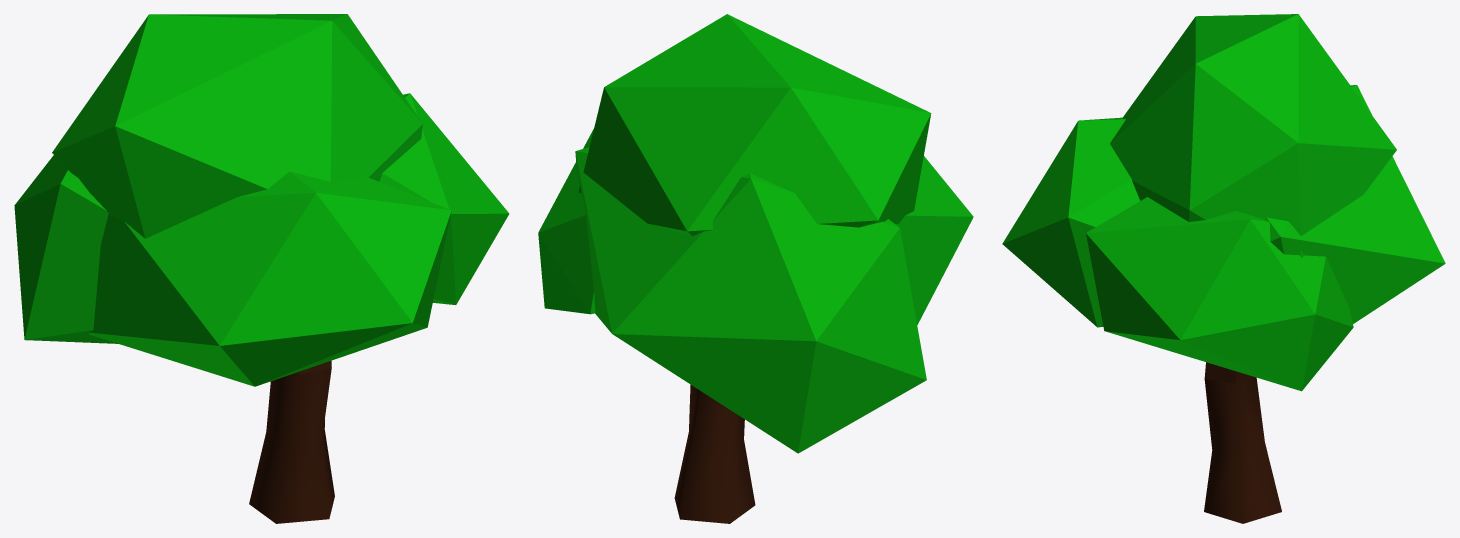
Rendered from Tree 2.FBX.
3 renders of one model, left to right at view 1: azimuth 30°, elevation 25°; view 2: azimuth 150°, elevation 25°; view 3: azimuth 270°, elevation 25°, orthographic. The views are drawn at different scales.
Parts seen in each view (by area): view 1: Tree round12, Tree round015, Tree round014, Treetrunk12, Tree round013; view 2: Tree round014, Tree round12, Treetrunk12, Tree round015, Tree round013; view 3: Tree round12, Tree round013, Tree round015, Tree round014, Treetrunk12.
Part boxes in pixels (x1,y1,x2,y2): Tree round12: [52, 14, 422, 238]; Tree round015: [88, 171, 451, 386]; Tree round014: [14, 155, 117, 343]; Treetrunk12: [249, 361, 334, 523]; Tree round013: [379, 93, 509, 304]; Tree round014: [575, 147, 926, 453]; Tree round12: [578, 14, 931, 235]; Treetrunk12: [674, 384, 755, 523]; Tree round015: [895, 156, 973, 324]; Tree round013: [538, 129, 595, 314]; Tree round12: [1110, 14, 1396, 257]; Tree round013: [1086, 197, 1353, 391]; Tree round015: [1002, 117, 1139, 327]; Tree round014: [1265, 85, 1445, 323]; Treetrunk12: [1204, 362, 1281, 523].
Size of the model in its own units: 39.48 by 44.19 by 39.7.
